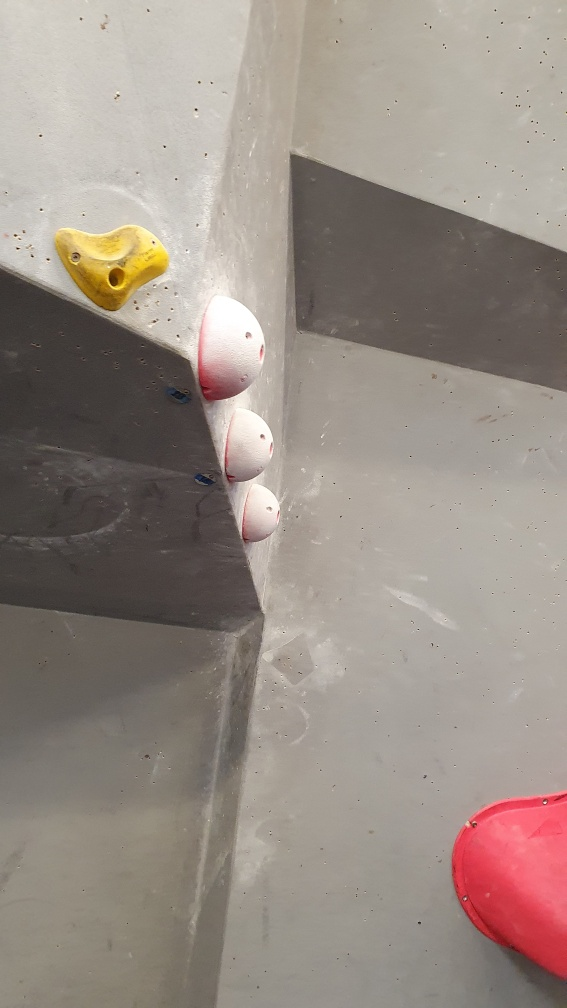Hand Start: (163, 381, 192, 410), (189, 465, 217, 492)
Sloper: (193, 290, 272, 406), (220, 404, 277, 487), (239, 481, 285, 546)
